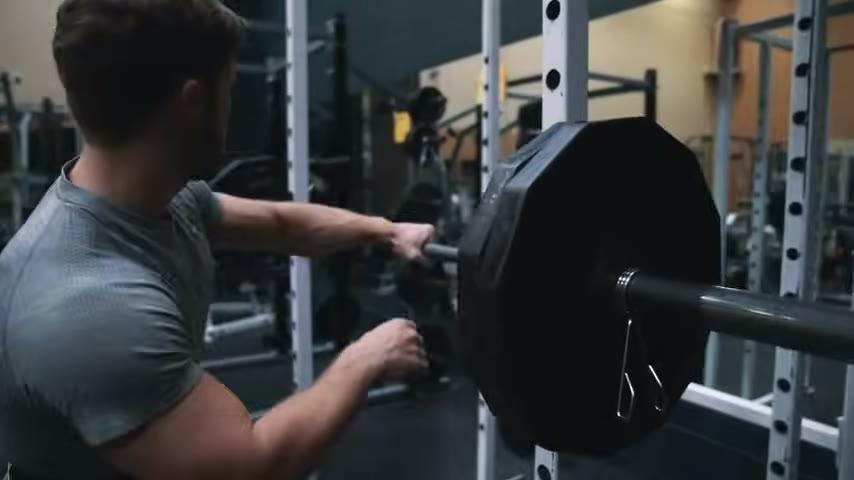barbell_plate_side: (620, 110, 731, 472)
